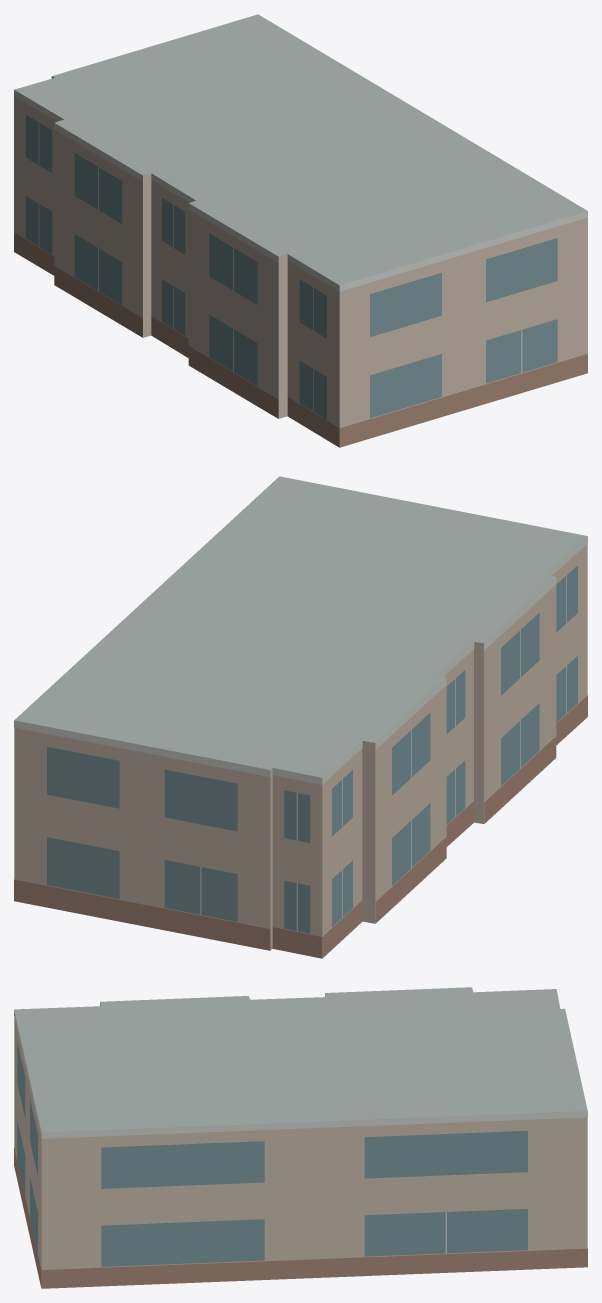
The model's file is survey-upis-32664175.glb.
3 renders of one model, top to bottom at view 1: azimuth 30°, elevation 25°; view 2: azimuth 150°, elevation 25°; view 3: azimuth 270°, elevation 25°, orthographic. The views are drawn at different scales.
Visible parts, largest first — view 1: survey-upis-32664175.tmp; view 2: survey-upis-32664175.tmp; view 3: survey-upis-32664175.tmp.
Part boxes in pixels (x1,y1,x2,y2): survey-upis-32664175.tmp: (14, 14, 587, 447); survey-upis-32664175.tmp: (14, 476, 587, 958); survey-upis-32664175.tmp: (14, 987, 587, 1288).
Bounding box in the file's own units: 12.2 × 6.1 × 20.33.
